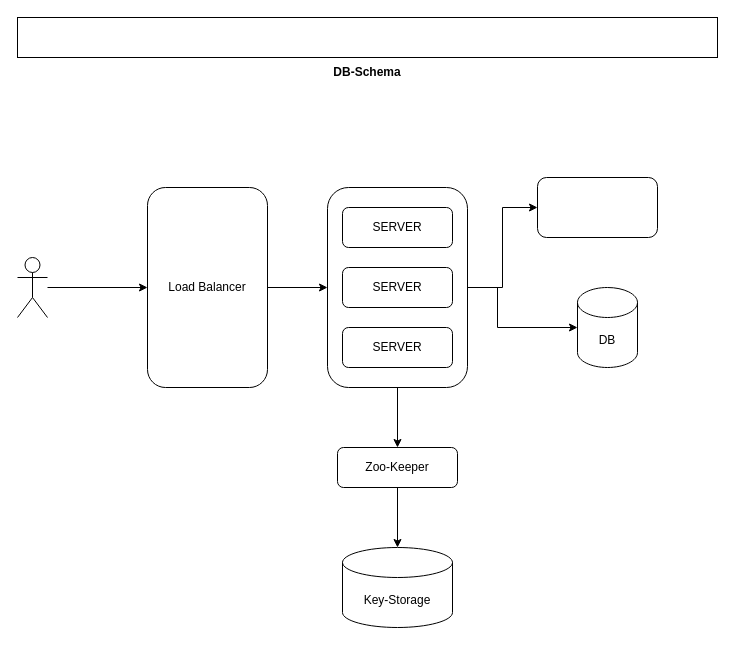
The diagram is 735 pixels wide and 645 high, and some of its shapes have lost their labels. The centre of each missing label's shape, as x and y in pixels:
"Actor" goes at [32,287].
"Cache Server" goes at [597,207].
"ID | User_Url | Shortened_Url | Created_On" goes at [367,37].
